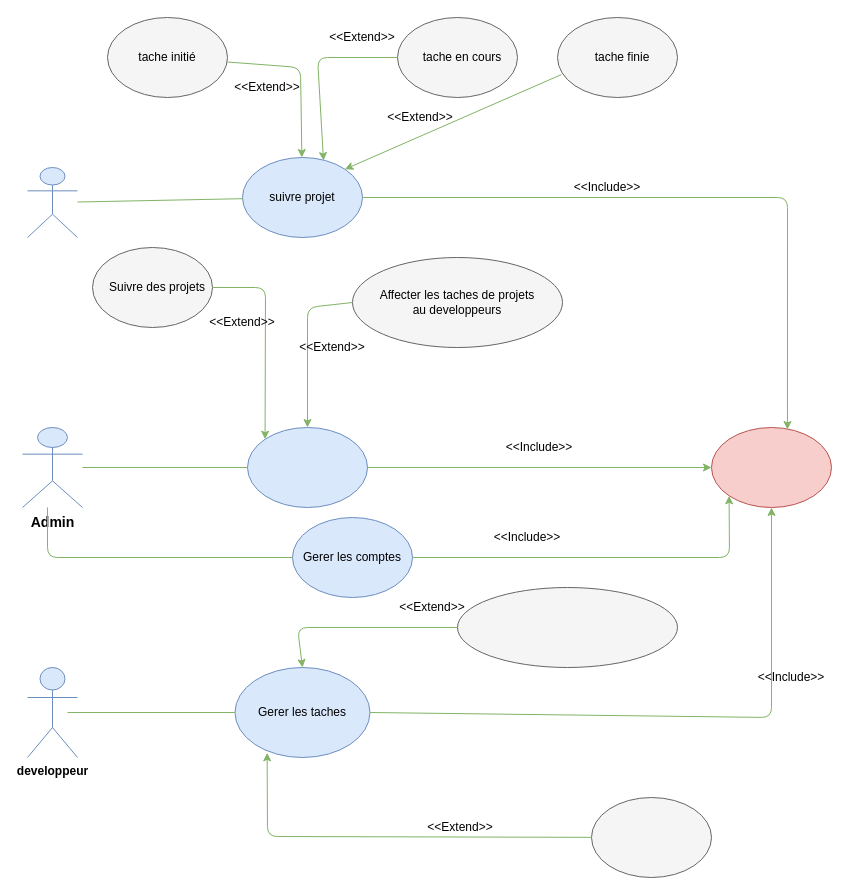
Image size: 849x895. Some labels were removed from this diagram. Here are the shapes that lost their labels. From the top down, the centre of each, then its label:
At (52,202): "Client".
At (307,467): "Gerer les projets".
At (771,467): "s'authentifier".
At (567,627): "confirmer la reception de tache".
At (651,837): "Signaler etat-tache".
